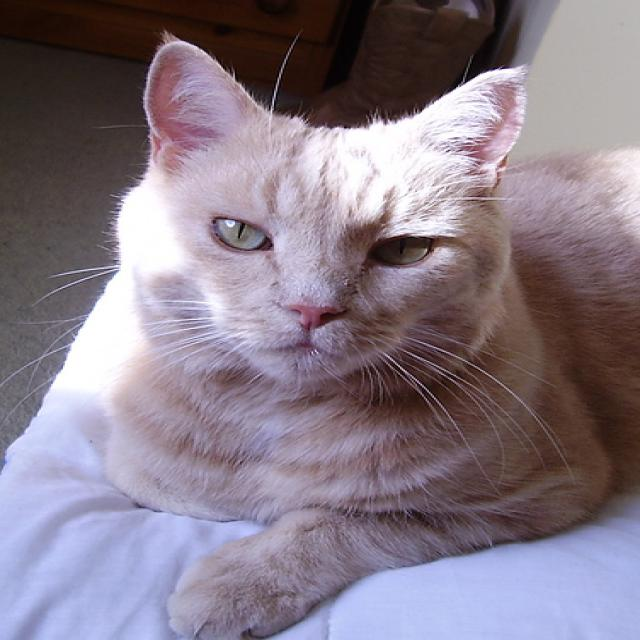cat: (3, 29, 639, 640)
